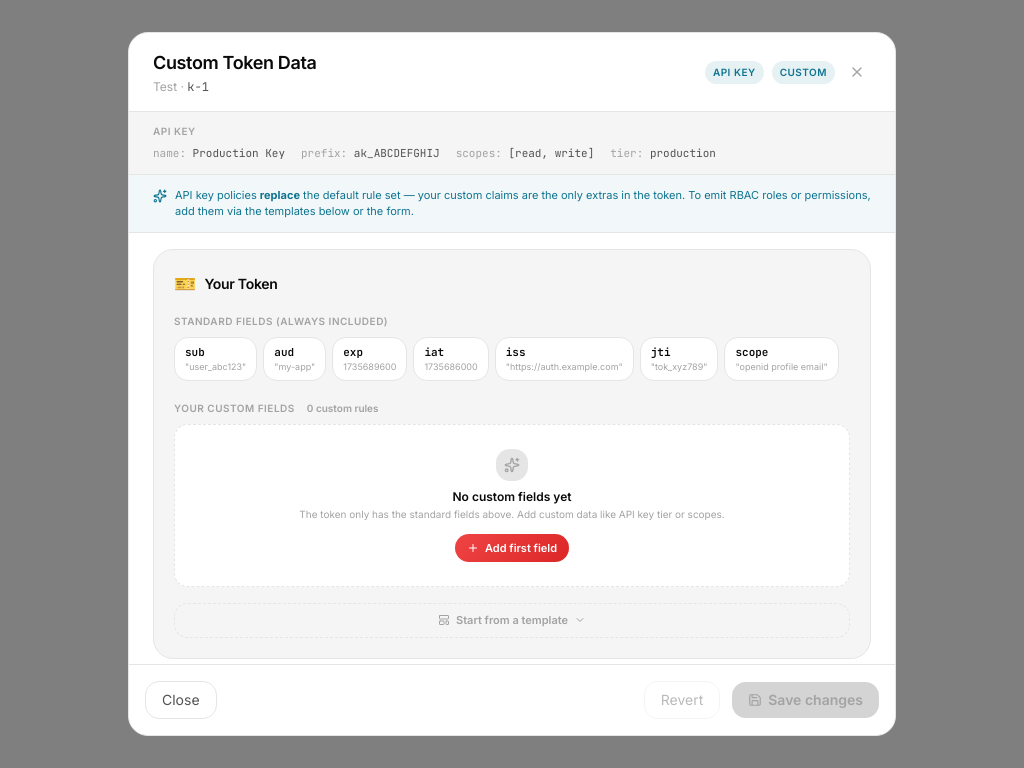
it: ApiKeyClaimsTab - claim name validation › rejects a plain non-standard claim name (red status)
Click the button with test id "api-key-claim-policy-add-btn": [512, 548] box left=455, top=534, right=569, bottom=562
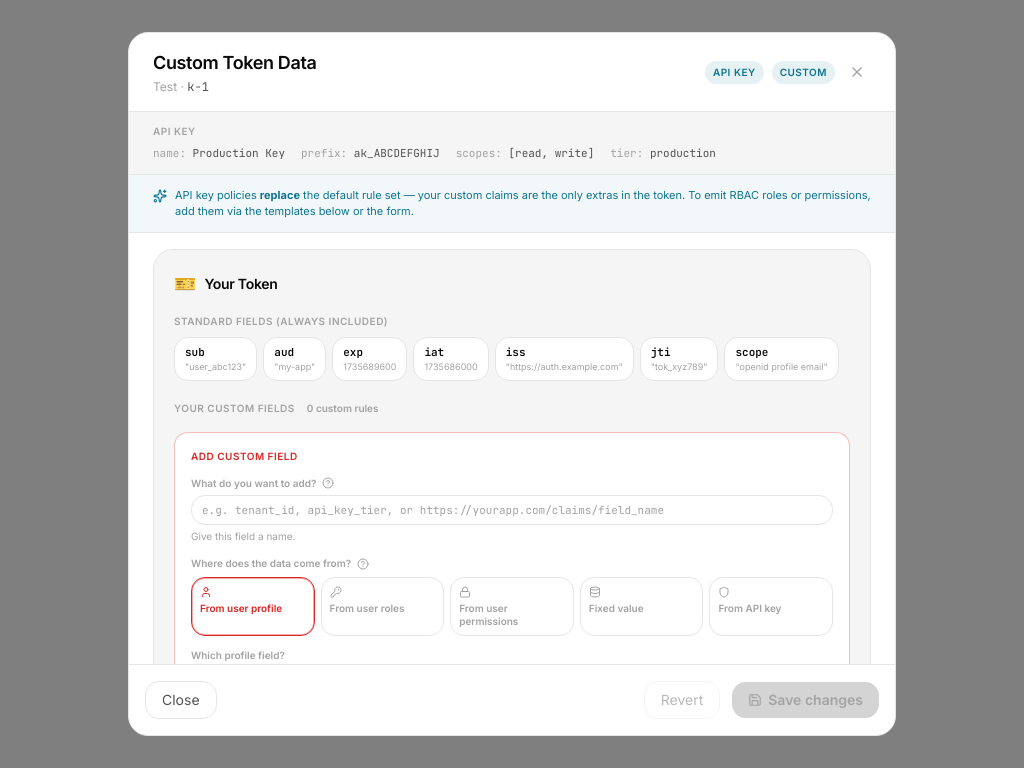
Replace the text in the field with test id "api-key-claim-name-input" with "tier": [512, 510] box left=191, top=494, right=833, bottom=525
(page scrolled)
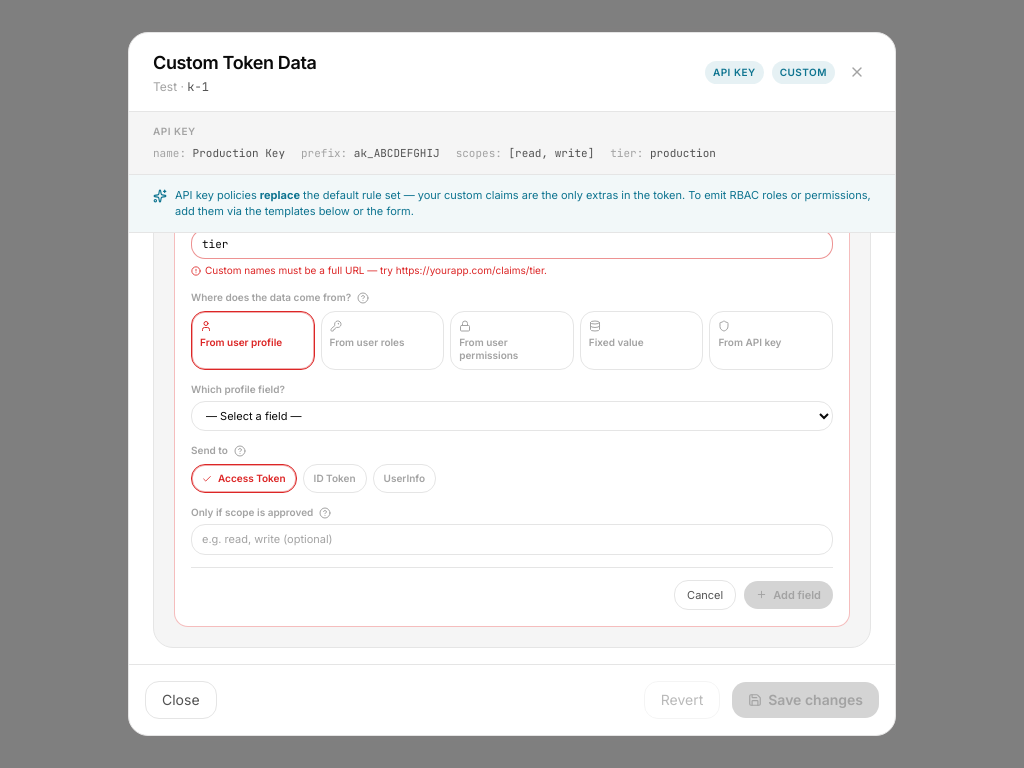
Check: the element with test id "api-key-claim-name-status" reads "Custom names must be a full URL — try https://yourapp.com/claims/tier.", box left=205, top=264, right=547, bottom=276
Check: the button with test id "api-key-claim-policy-add-confirm-btn" is disabled, box left=744, top=580, right=833, bottom=609
